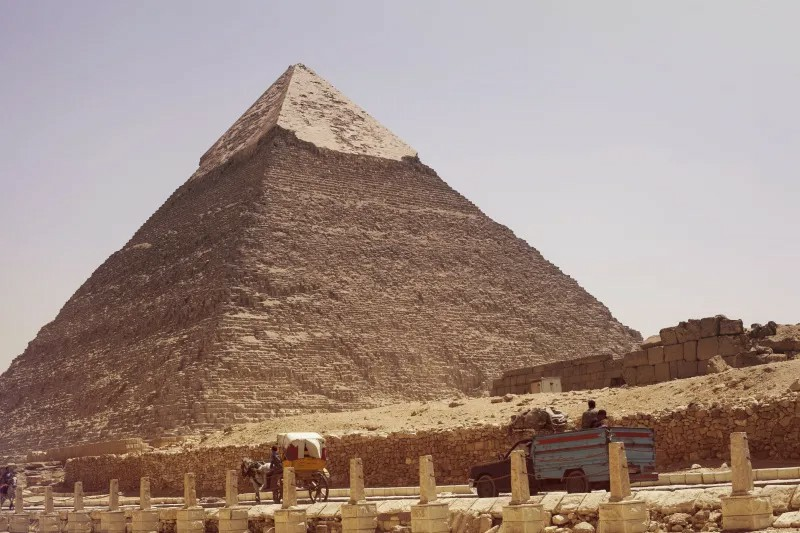Pyramid: (1, 66, 645, 459)
